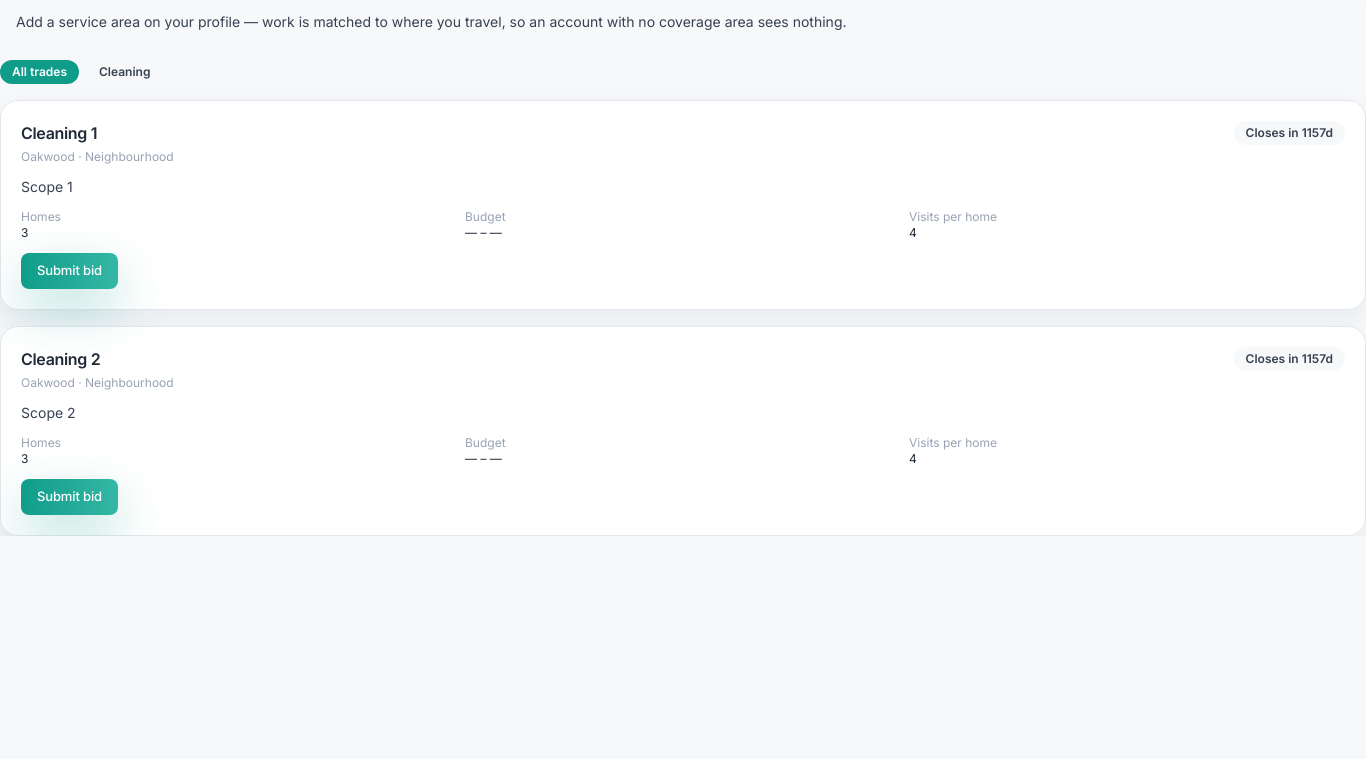
Test: provider bid feedback with the real marketplace hook › shows an inline amount error and makes no PUT for invalid amount -1
Check: the heading "Cleaning 1" is shown, box [21,123,97,143]
Click the button "Submit bid" below "Scope 1" at (70, 271), box [21,253,118,289]
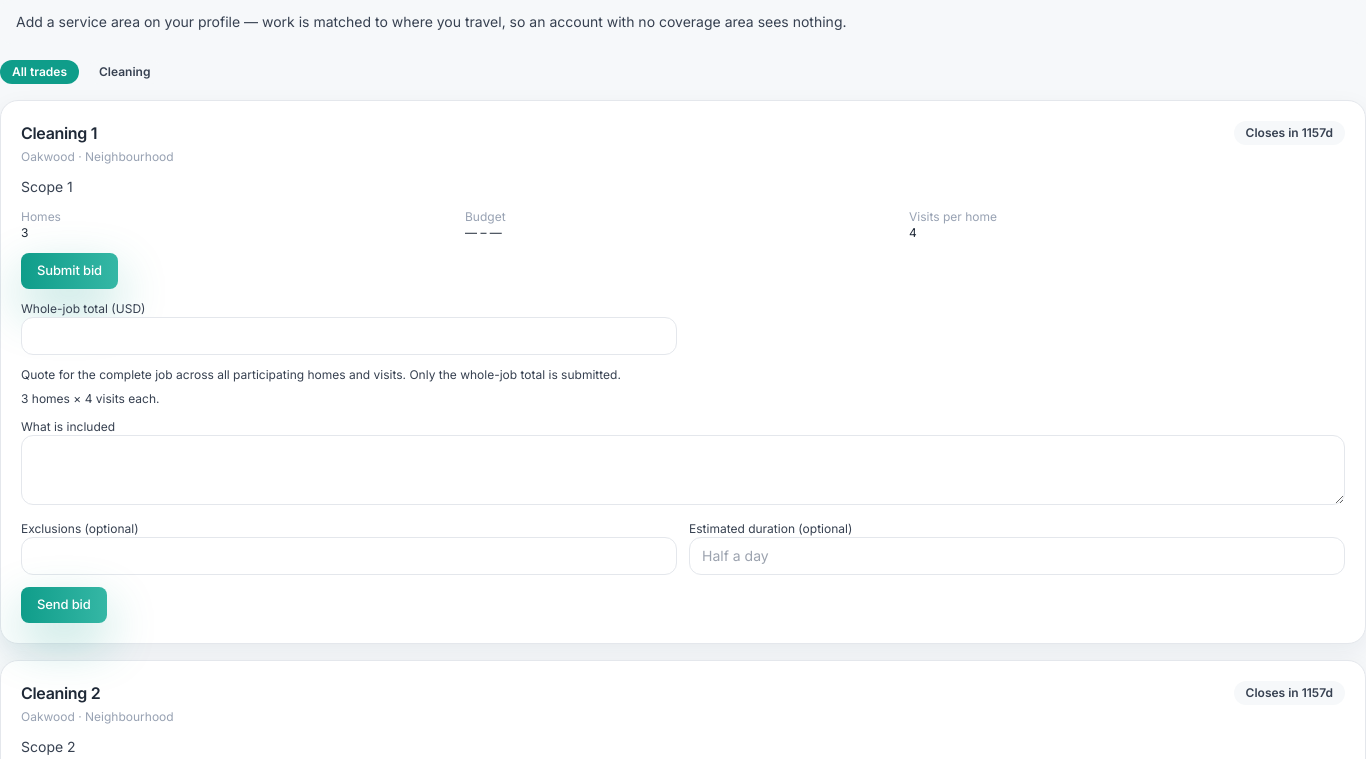
Type "-1" into the number field labelled "Whole-job total (USD)" at (349, 336), box [21,317,677,355]
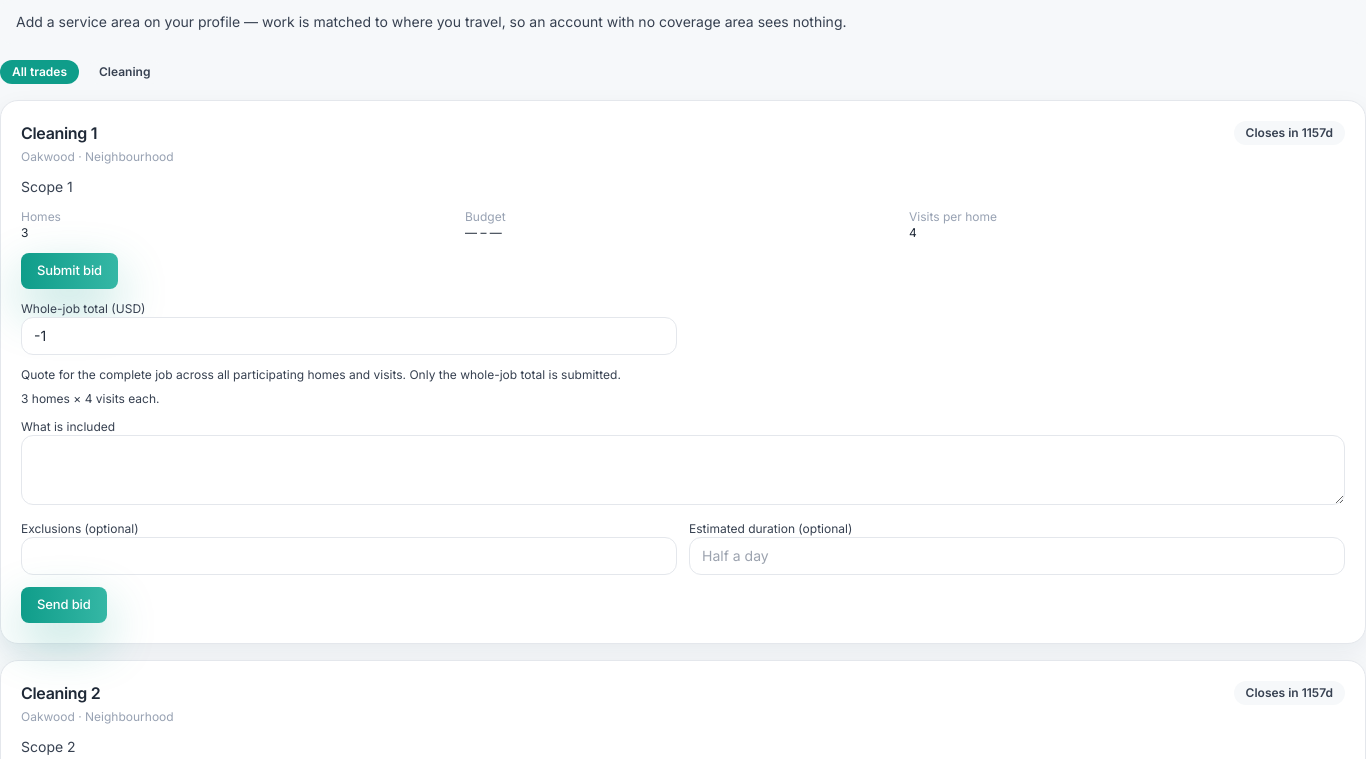
Type "Draft for card 1" into the text box labelled "What is included" at (683, 470), box [21,435,1345,505]
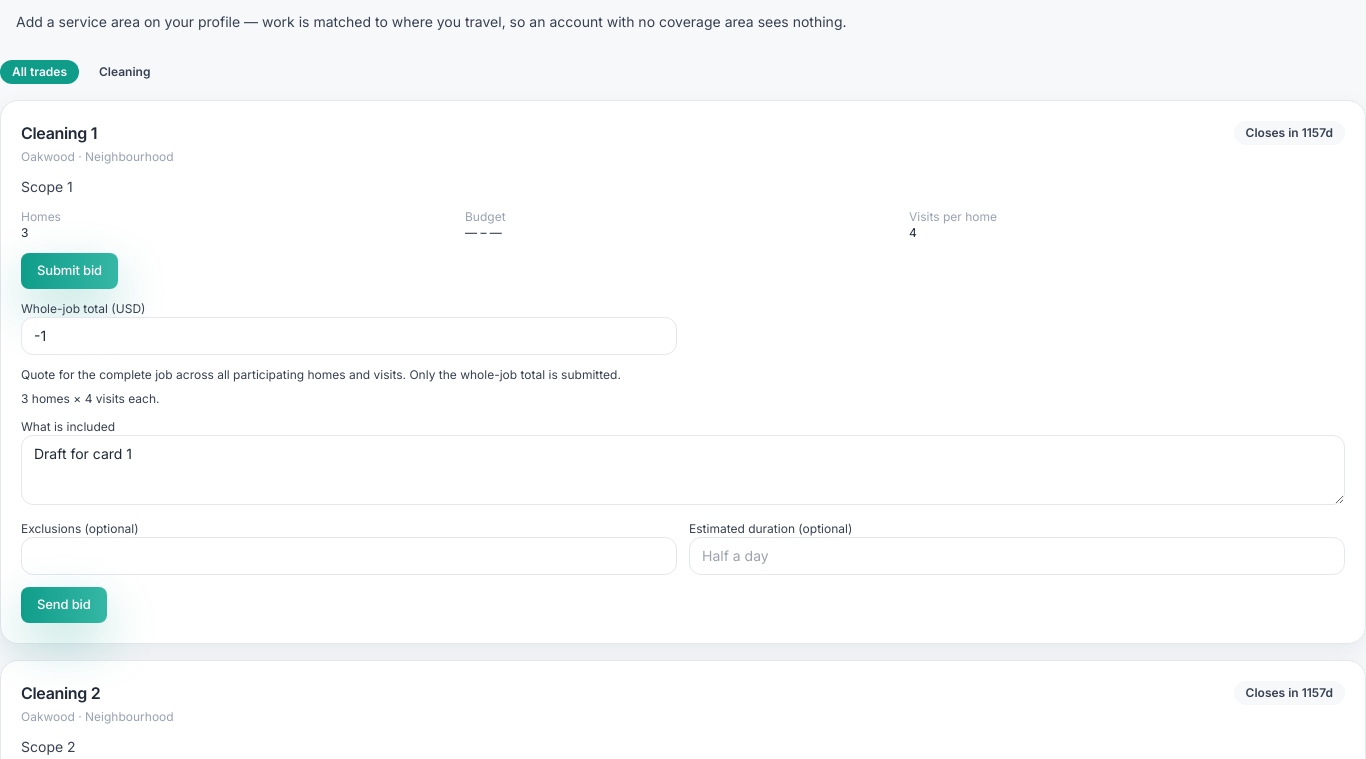
Submit the form labelled "Whole-job total", box [21,301,1345,623]
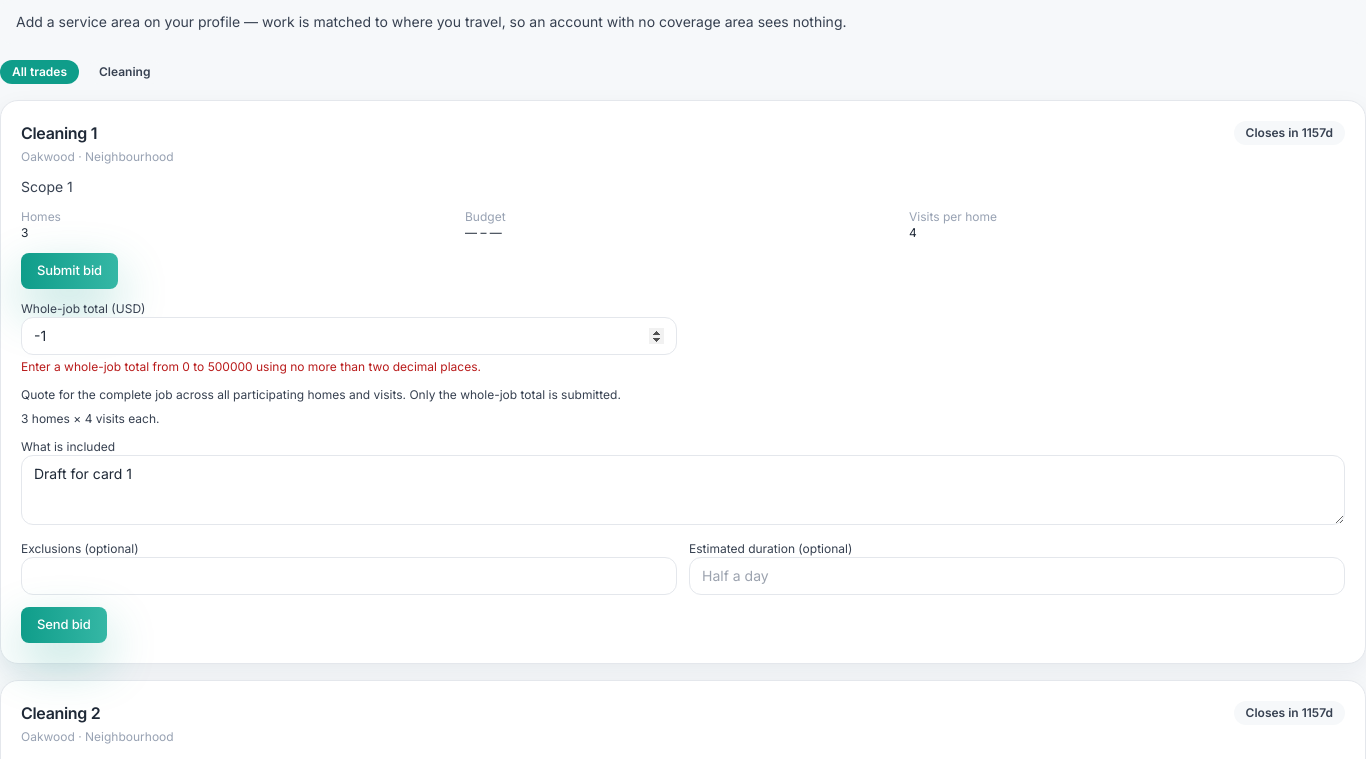
Check: the 1st message reads "Enter a whole-job total from 0 to 500000 using no more than two decimal places.", box [21,359,481,374]
